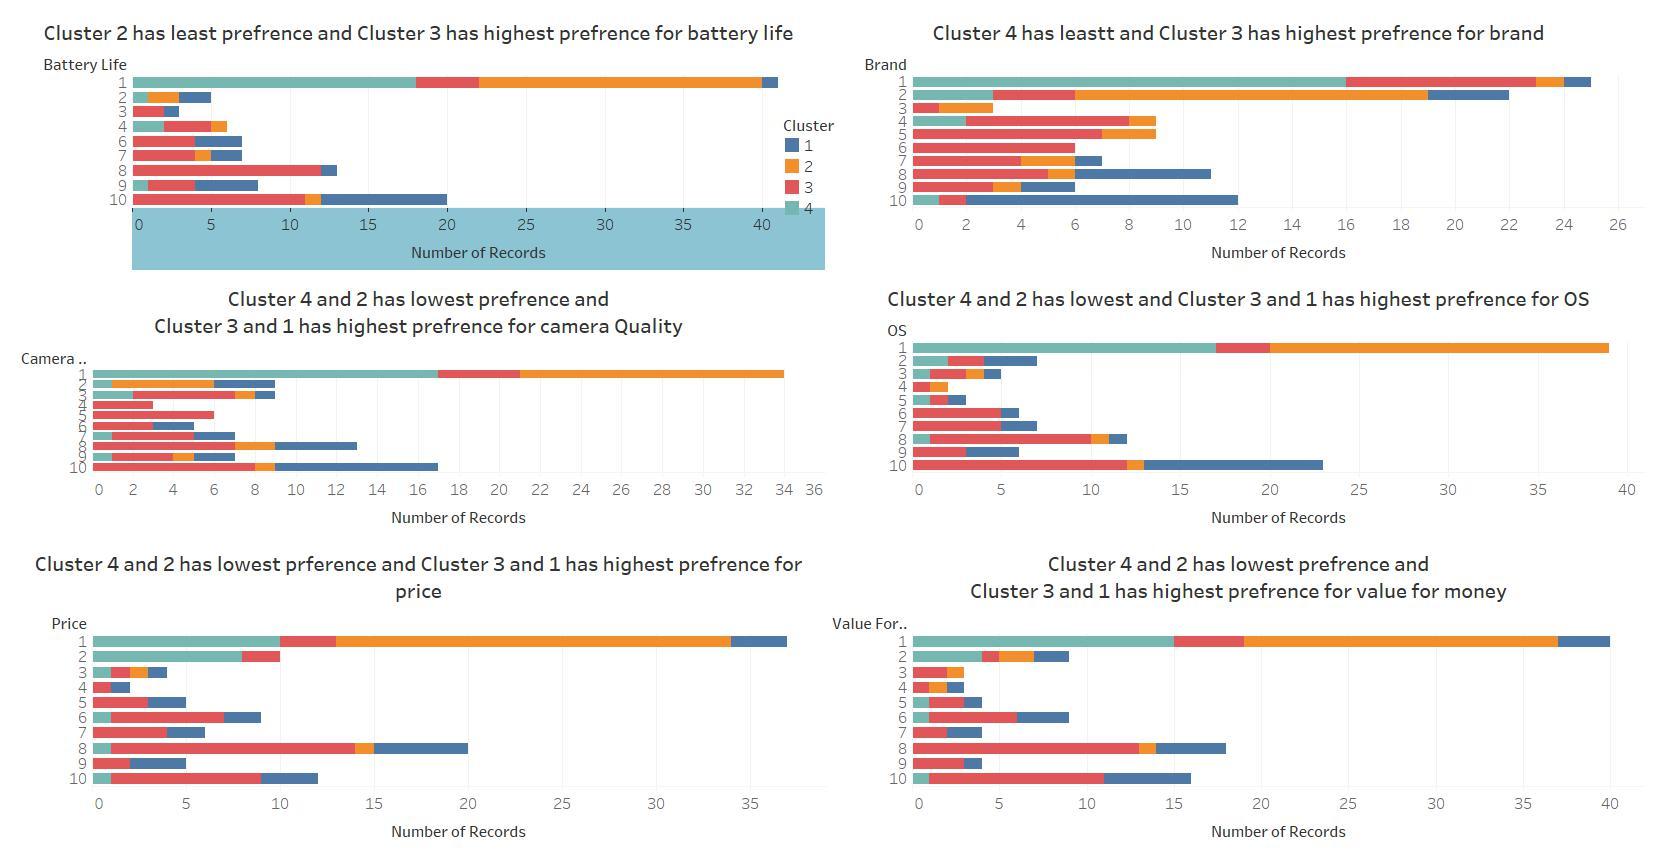

What the dashboard file says about the page in this screenshot:
{"tool":"tableau","page":{"name":"Dashboard 1","canvas":[1000,1000],"units":"permille","ordinal":0},"visuals":[{"type":"worksheet","title":"Sheet 3","mark":"Automatic","rows":["BatteryLife"],"cols":["Number of Records"],"box":[4.8,9.3,495.2,308.9]},{"type":"worksheet","title":"Sheet 3 (2)","mark":"Automatic","rows":["Brand"],"cols":["Number of Records"],"box":[500,9.3,495.2,308.9]},{"type":"legend","title":"Sheet 3","param":"[federated.1kr8jwa0bezrei185pg8o02i2mcp].[none:CLUSTER:ok]","box":[471.9,131.2,84.5,123.1]},{"type":"worksheet","title":"Sheet 3 (3)","mark":"Automatic","rows":["CameraQuality"],"cols":["Number of Records"],"box":[4.8,318.2,495.2,307.8]},{"type":"worksheet","title":"Sheet 3 (4)","mark":"Automatic","rows":["OS"],"cols":["Number of Records"],"box":[500,318.2,495.2,307.8]},{"type":"worksheet","title":"Sheet 3 (5)","mark":"Automatic","rows":["Price"],"cols":["Number of Records"],"box":[4.8,626,495.2,364.7]},{"type":"worksheet","title":"Sheet 3 (6)","mark":"Automatic","rows":["ValueForMoney"],"cols":["Number of Records"],"box":[500,626,495.2,364.7]}]}

Visuals, with their boxes on the dashboard's canvas, which has no fixed pixel size, in thousandths of its width and height (x1, y1, x2, y2). These are canvas units, not pixel positions in the 1657x861 screenshot, which may show the page scaled, cropped or inside an application window:
"Sheet 3" worksheet: Rect(5, 9, 500, 318)
"Sheet 3 (2)" worksheet: Rect(500, 9, 995, 318)
"Sheet 3" legend: Rect(472, 131, 556, 254)
"Sheet 3 (3)" worksheet: Rect(5, 318, 500, 626)
"Sheet 3 (4)" worksheet: Rect(500, 318, 995, 626)
"Sheet 3 (5)" worksheet: Rect(5, 626, 500, 991)
"Sheet 3 (6)" worksheet: Rect(500, 626, 995, 991)
